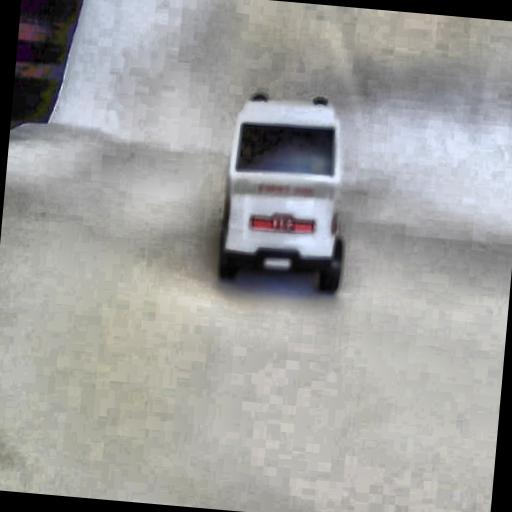ambulance: (214, 88, 356, 295)
